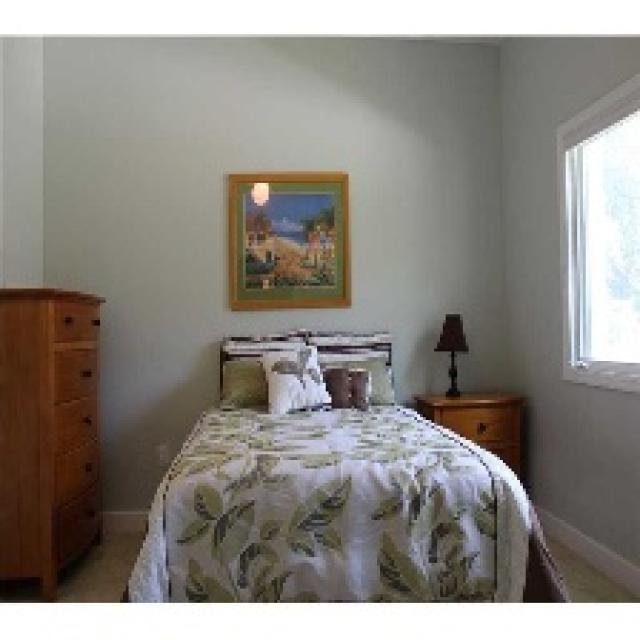Bed: (123, 328, 568, 603)
